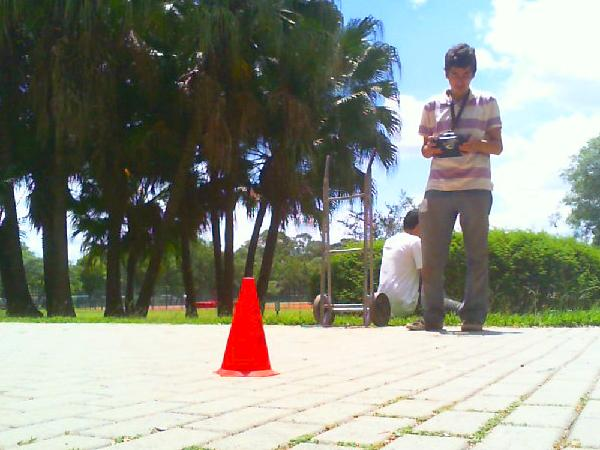0 cone: (210, 278, 279, 377)
